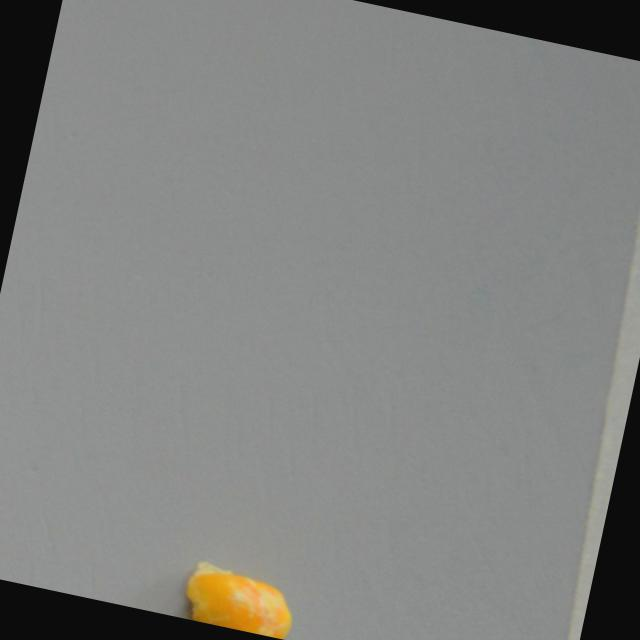pelicula: (174, 543, 302, 640)
